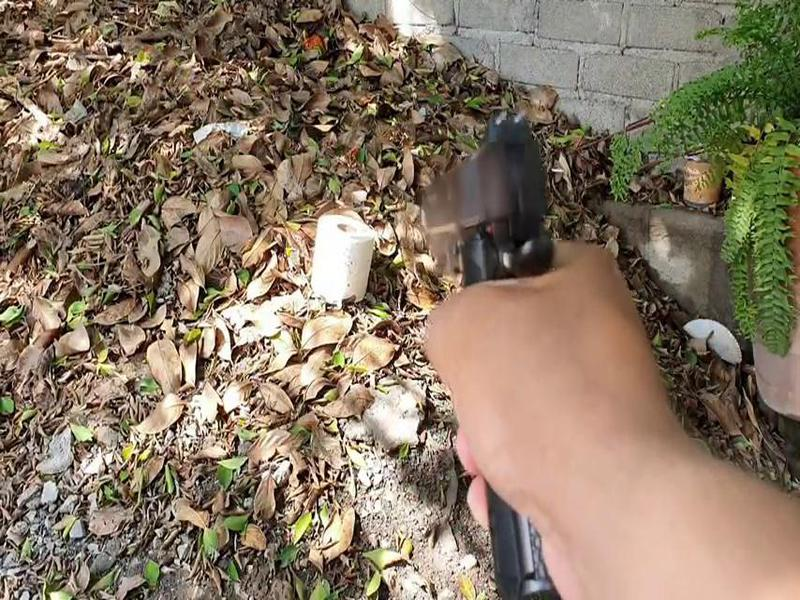Pistola: (398, 114, 637, 415)
